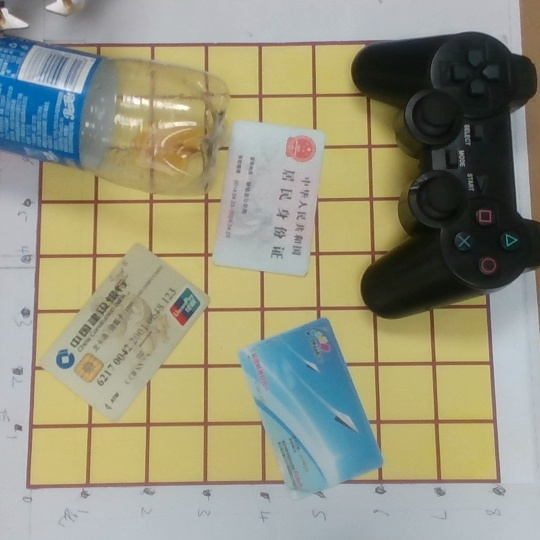card: (37, 241, 211, 433), (236, 318, 385, 500), (219, 119, 326, 273)
remote: (348, 30, 540, 319)
